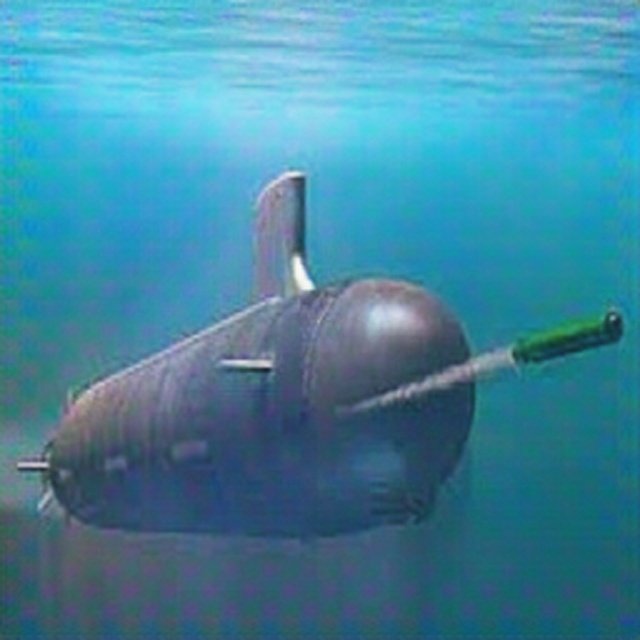submarine: (36, 163, 484, 602)
